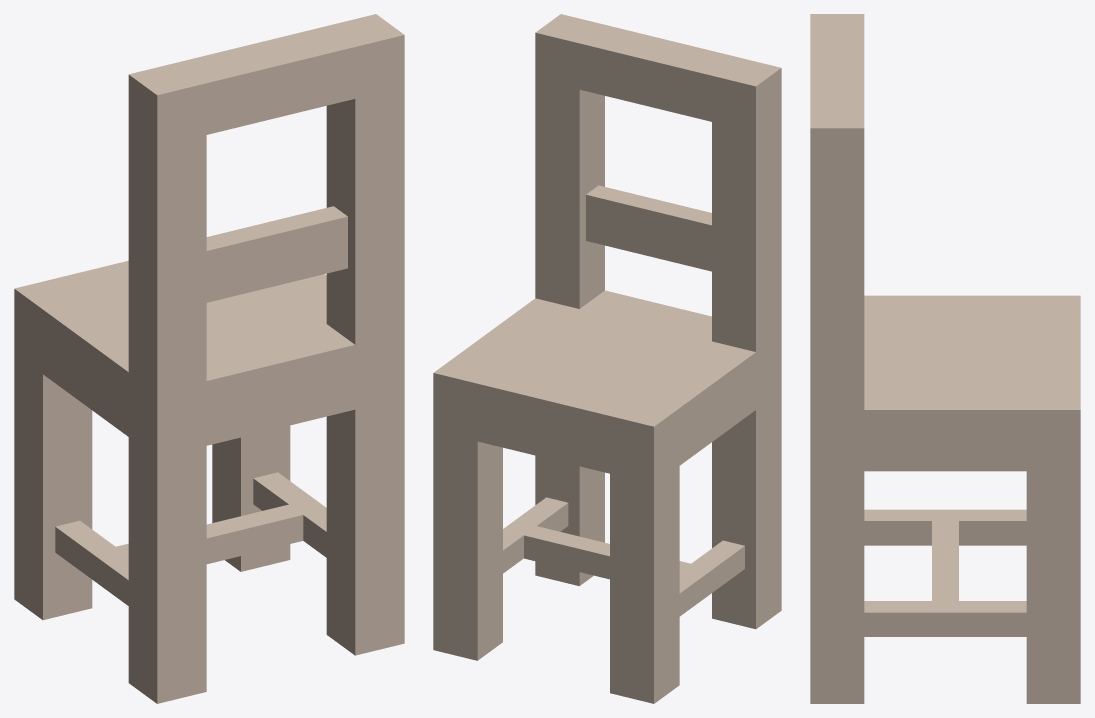
Rendered from furn_chair.glb.
3 renders of one model, left to right at view 1: azimuth 30°, elevation 25°; view 2: azimuth 150°, elevation 25°; view 3: azimuth 270°, elevation 25°, orthographic. The views are drawn at different scales.
Size of the model in its own units: 0.4 by 0.94 by 0.4.
